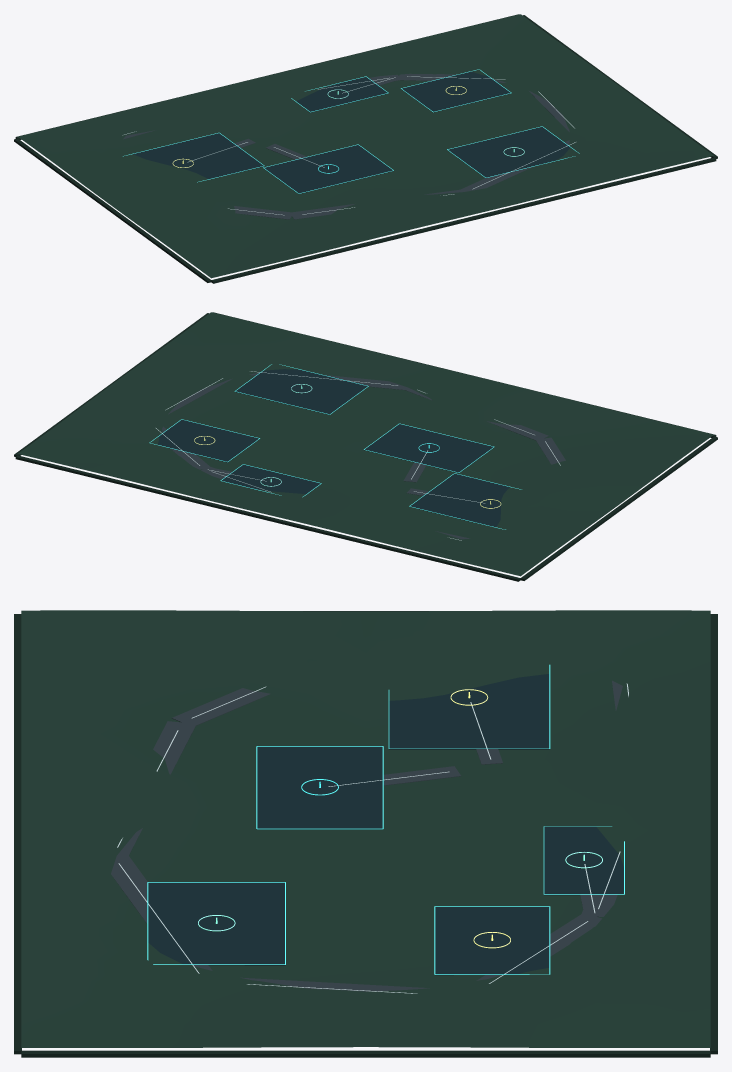
Rendered from world-base-bare-energy-campus.glb.
3 renders of one model, top to bottom at view 1: azimuth 30°, elevation 25°; view 2: azimuth 150°, elevation 25°; view 3: azimuth 270°, elevation 25°, orthographic. The views are drawn at different scales.
Parts seen in each view (by area): view 1: bare terrain low-poly surface, power station foundation pad slab, hq campus foundation pad slab, solar farm foundation pad slab, substation foundation pad slab, south terrain retaining edge, battery storage foundation pad slab, west terrain retaining edge, main loop segment 6 asphalt, east terrain retaining edge, main loop segment 5 asphalt, main loop segment 7 asphalt; view 2: bare terrain low-poly surface, power station foundation pad slab, hq campus foundation pad slab, solar farm foundation pad slab, north terrain retaining edge, substation foundation pad slab, battery storage foundation pad slab, west terrain retaining edge, main loop segment 6 asphalt, east terrain retaining edge, main loop segment 5 asphalt, main loop segment 7 asphalt; view 3: bare terrain low-poly surface, power station foundation pad slab, hq campus foundation pad slab, solar farm foundation pad slab, substation foundation pad slab, east terrain retaining edge, battery storage foundation pad slab, south terrain retaining edge, north terrain retaining edge, main loop segment 5 asphalt, main loop segment 6 asphalt, main loop segment 7 asphalt (+3 smaller).
Part boxes in pixels (x1,y1,x2,y2): bare terrain low-poly surface: (18,14,713,278); power station foundation pad slab: (448,127,570,177); hq campus foundation pad slab: (264,145,393,193); solar farm foundation pad slab: (133,133,263,179); substation foundation pad slab: (401,71,510,112); south terrain retaining edge: (211,157,716,283); battery storage foundation pad slab: (296,77,388,112); west terrain retaining edge: (14,138,211,282); main loop segment 6 asphalt: (289,189,463,219); east terrain retaining edge: (523,15,717,158); main loop segment 5 asphalt: (460,140,569,191); main loop segment 7 asphalt: (234,206,291,219); bare terrain low-poly surface: (18,312,713,576); power station foundation pad slab: (235,369,367,414); hq campus foundation pad slab: (364,424,493,473); solar farm foundation pad slab: (410,473,509,527); north terrain retaining edge: (15,455,520,581); substation foundation pad slab: (157,419,258,462); battery storage foundation pad slab: (222,464,320,494); west terrain retaining edge: (520,436,717,580); main loop segment 6 asphalt: (404,388,548,440); east terrain retaining edge: (14,313,208,456); main loop segment 5 asphalt: (249,372,407,389); main loop segment 7 asphalt: (535,437,565,464); bare terrain low-poly surface: (21,610,710,1047); power station foundation pad slab: (148,882,285,965); hq campus foundation pad slab: (257,746,382,829); solar farm foundation pad slab: (389,674,549,749); substation foundation pad slab: (435,907,549,975); east terrain retaining edge: (21,1050,710,1057); battery storage foundation pad slab: (544,826,623,895); south terrain retaining edge: (14,614,21,1054); north terrain retaining edge: (710,614,717,1054); main loop segment 5 asphalt: (111,854,212,970); main loop segment 6 asphalt: (117,721,196,855); main loop segment 7 asphalt: (172,688,270,726).
Size of the model in its own units: 183 by 2 by 123.
